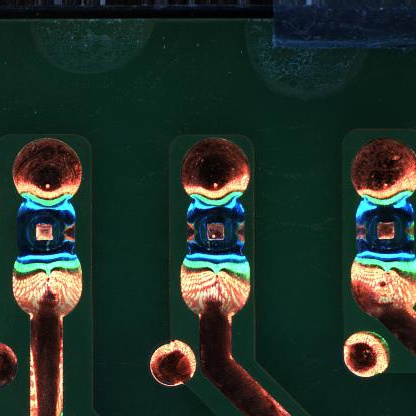spot: (15, 198, 79, 264), (352, 197, 416, 259), (187, 198, 248, 259)
